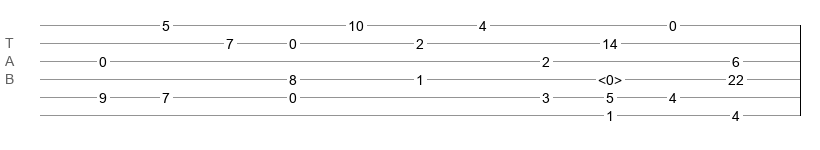0: (99, 54, 107, 64), (289, 36, 297, 46), (289, 90, 297, 100), (669, 18, 677, 28)
1: (416, 72, 424, 82), (606, 108, 614, 118)
10: (348, 18, 364, 28)
14: (602, 36, 618, 46)
2: (416, 36, 424, 46), (542, 54, 550, 64)
22: (728, 72, 744, 82)
3: (542, 90, 550, 100)
4: (479, 18, 487, 28), (669, 90, 677, 100), (732, 108, 740, 118)
5: (162, 18, 170, 28), (606, 90, 614, 100)
6: (732, 54, 740, 64)
7: (162, 90, 170, 100), (226, 36, 234, 46)
8: (289, 72, 297, 82)
9: (99, 90, 107, 100)
harmonic: (598, 72, 622, 82)
